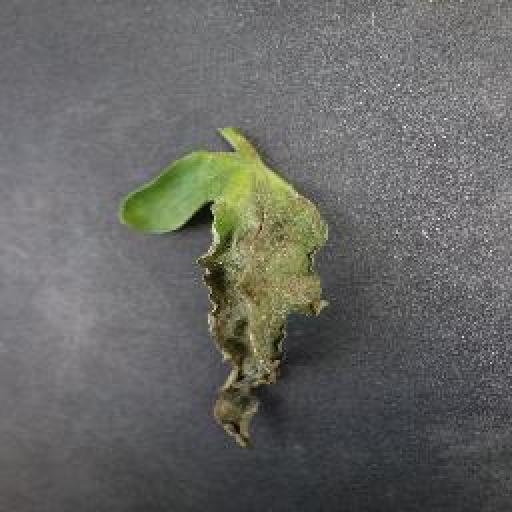disease_tomato: (118, 149, 336, 451)
